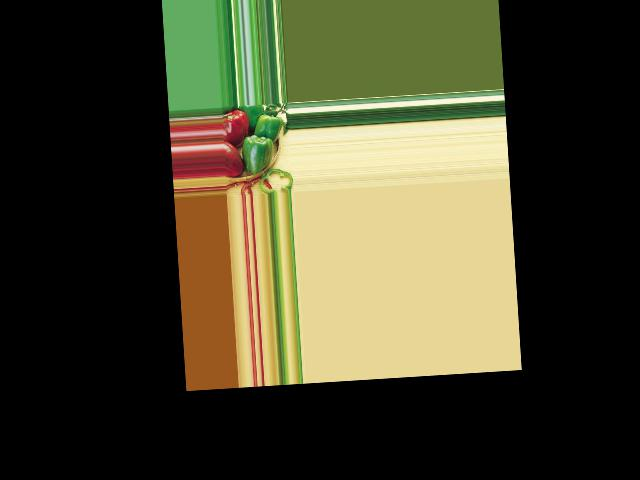bell_pepper: (223, 139, 242, 177)
